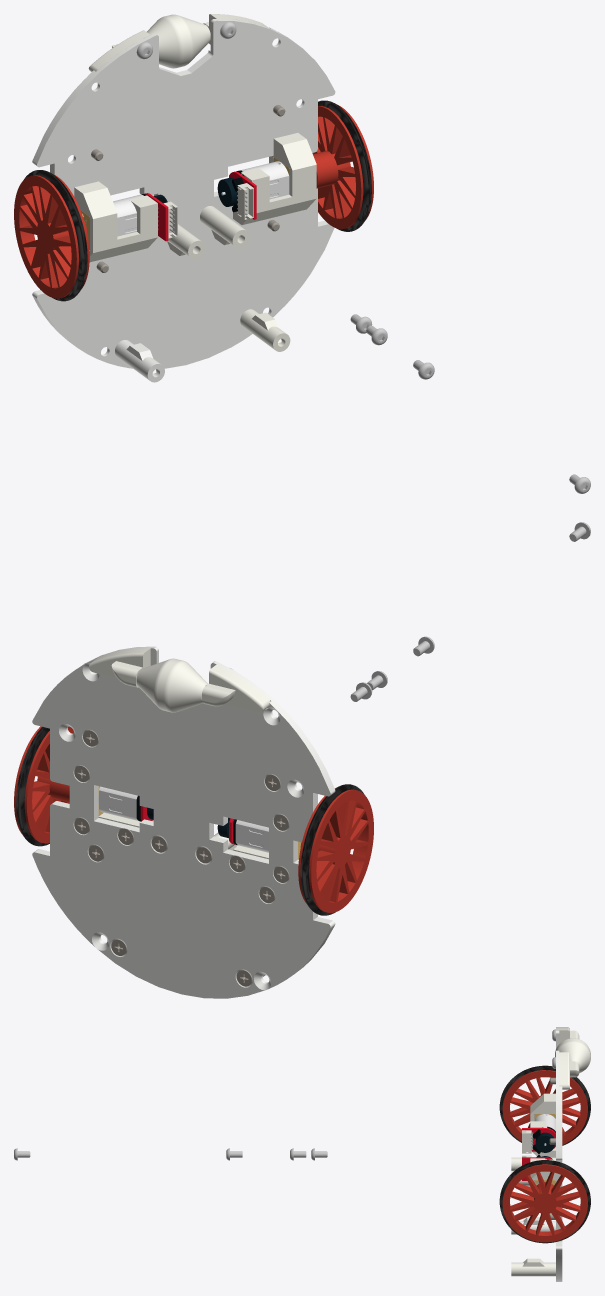
File: Mini v2 base.fbx
3 renders of one model, top to bottom at view 1: azimuth 30°, elevation 25°; view 2: azimuth 150°, elevation 25°; view 3: azimuth 270°, elevation 25°, orthographic. The views are drawn at different scales.
Visible parts, largest first — view 1: pcb_base_bdc30p, Wheel Right, Wheel_x2, N20_Motor_Clamp_Right, N20_Motor_Clamp_Left, Caster_Roller, Body26 (×2), Tire Right, Tire Left, pcb_post2, pcb_post_bdc30p_x4, pcb_post4 (+1 smaller); view 2: pcb_base_bdc30p, Wheel Right, Wheel_x2, Caster_Roller, Caster_Mount_Right, Body26 (×2), Caster_Mount_Left, Tire Right, Tire Left; view 3: Wheel_x2, Wheel Right, pcb_base_bdc30p, Tire Left, pcb_post2, N20_Motor_Clamp_Right, Tire Right, Caster_Roller, Caster_Mount_Left.
Boxes of the visible parts, x1,y1,x2,y2 form: pcb_base_bdc30p: (32,19,335,368); Wheel Right: (14,174,89,298); Wheel_x2: (312,104,373,229); N20_Motor_Clamp_Right: (74,181,157,262); N20_Motor_Clamp_Left: (233,133,316,224); Caster_Roller: (147,14,210,68); Body26 (×2): (113,161,289,236); Tire Right: (24,170,87,301); Tire Left: (318,100,371,231); pcb_post2: (240,309,290,351); pcb_post_bdc30p_x4: (115,340,164,382); pcb_post4: (200,206,249,248); pcb_base_bdc30p: (32,646,335,998); Wheel Right: (298,789,373,912); Wheel_x2: (14,726,73,843); Caster_Roller: (136,658,207,712); Caster_Mount_Right: (202,664,270,712); Body26 (×2): (98,786,268,852); Caster_Mount_Left: (89,648,150,687); Tire Right: (300,784,364,915); Tire Left: (16,726,49,846); Wheel_x2: (502,1164,587,1242); Wheel Right: (502,1070,587,1144); pcb_base_bdc30p: (556,1027,562,1281); Tire Left: (499,1160,590,1243); pcb_post2: (511,1258,555,1276); N20_Motor_Clamp_Right: (530,1093,555,1157); Tire Right: (499,1065,590,1145); Caster_Roller: (555,1038,590,1072); Caster_Mount_Left: (559,1052,579,1089).
Bounding box in the file's own units: 110 × 119 × 272.
